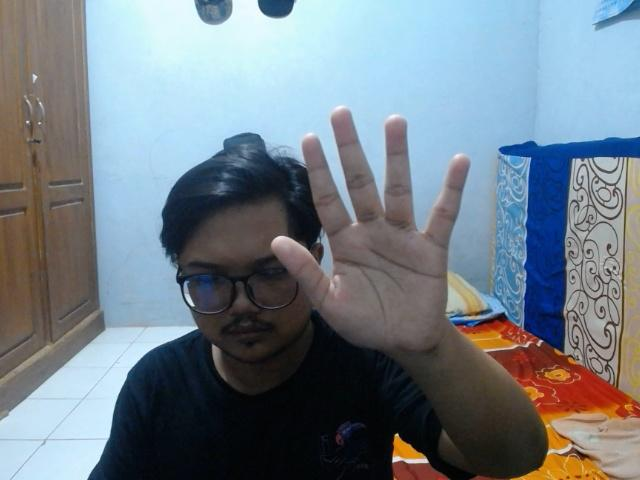Release: (264, 101, 472, 358)
